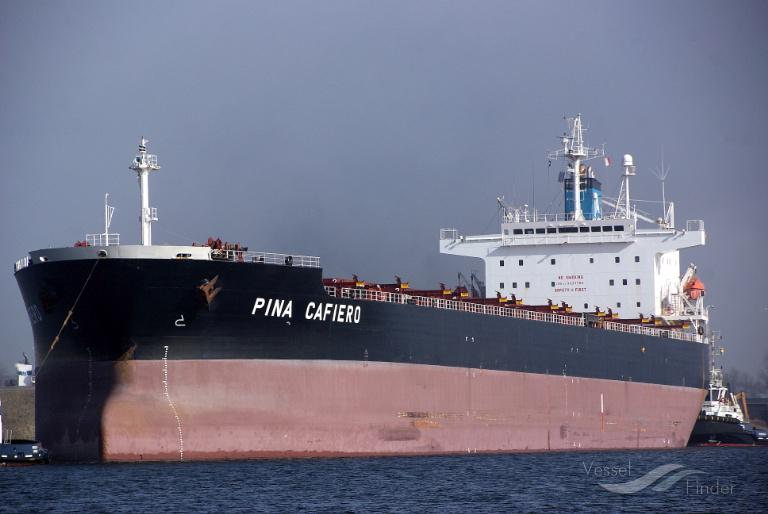OCR: (248, 287, 366, 332)
